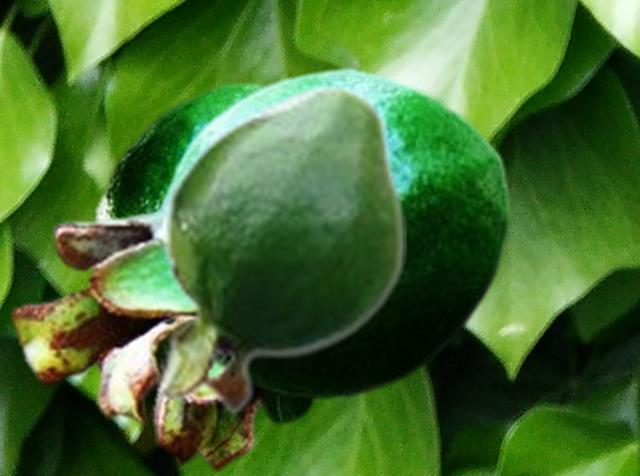guava: (9, 65, 512, 427), (91, 79, 319, 472), (156, 81, 405, 416)
